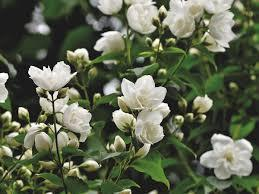jasmine: (89, 68, 181, 168), (86, 0, 234, 62), (22, 54, 89, 143), (203, 123, 252, 177)
